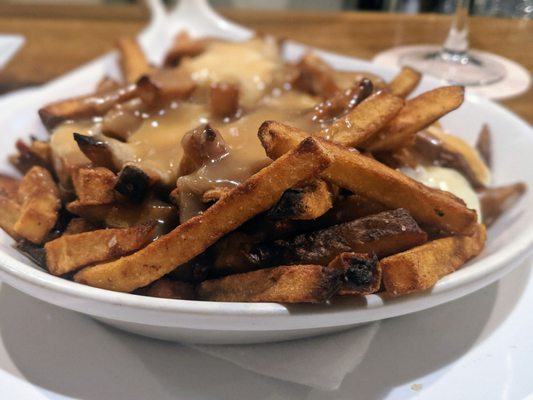sandwich: (384, 0, 507, 88)
